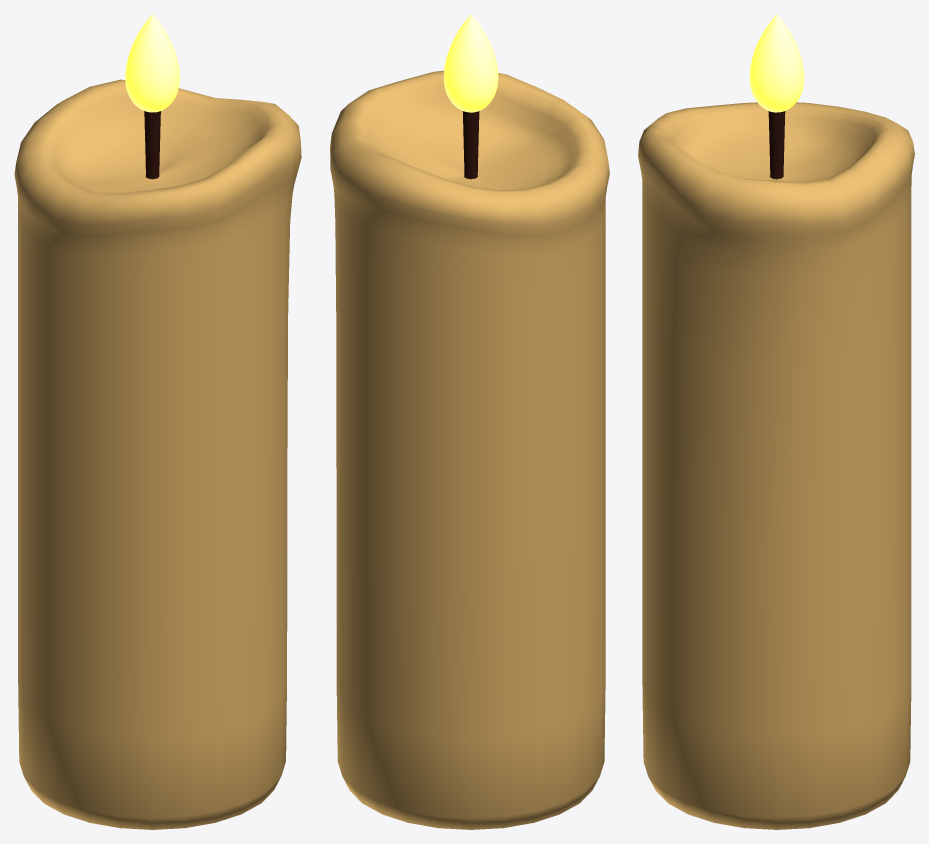
Rendered from Candle_D.fbx.
3 views of the same model, side by side, from view 1: azimuth 30°, elevation 25°; view 2: azimuth 150°, elevation 25°; view 3: azimuth 270°, elevation 25° (orthographic).
Visible parts, largest first — view 1: Candle_D; view 2: Candle_D; view 3: Candle_D.
Boxes of the visible parts, <box> form: Candle_D: <box>14,14,301,829</box>; Candle_D: <box>330,14,609,829</box>; Candle_D: <box>638,14,914,829</box>.
Bounding box in the file's own units: 53.07 × 50.54 × 154.
